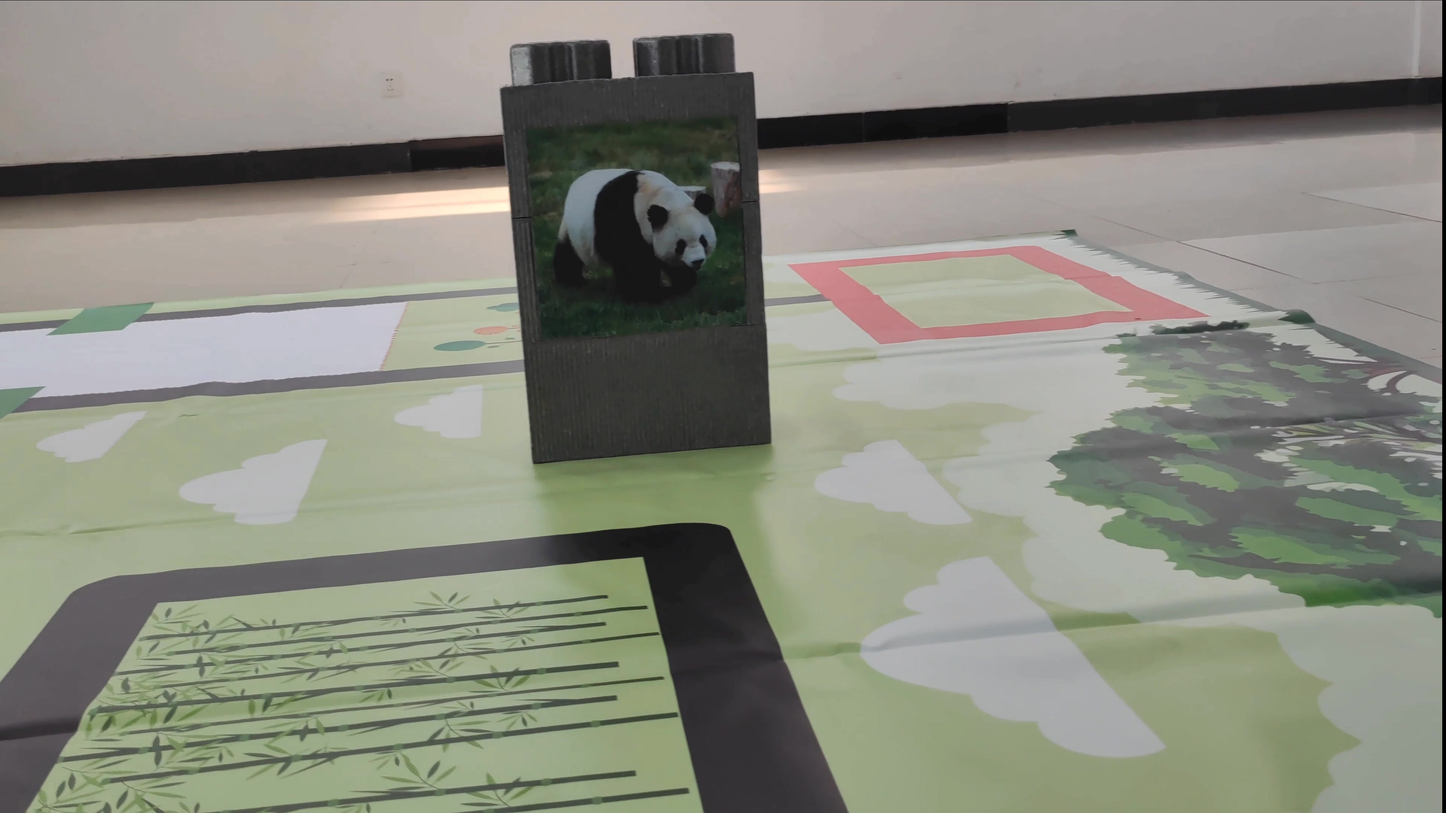panda: (541, 154, 750, 319)
